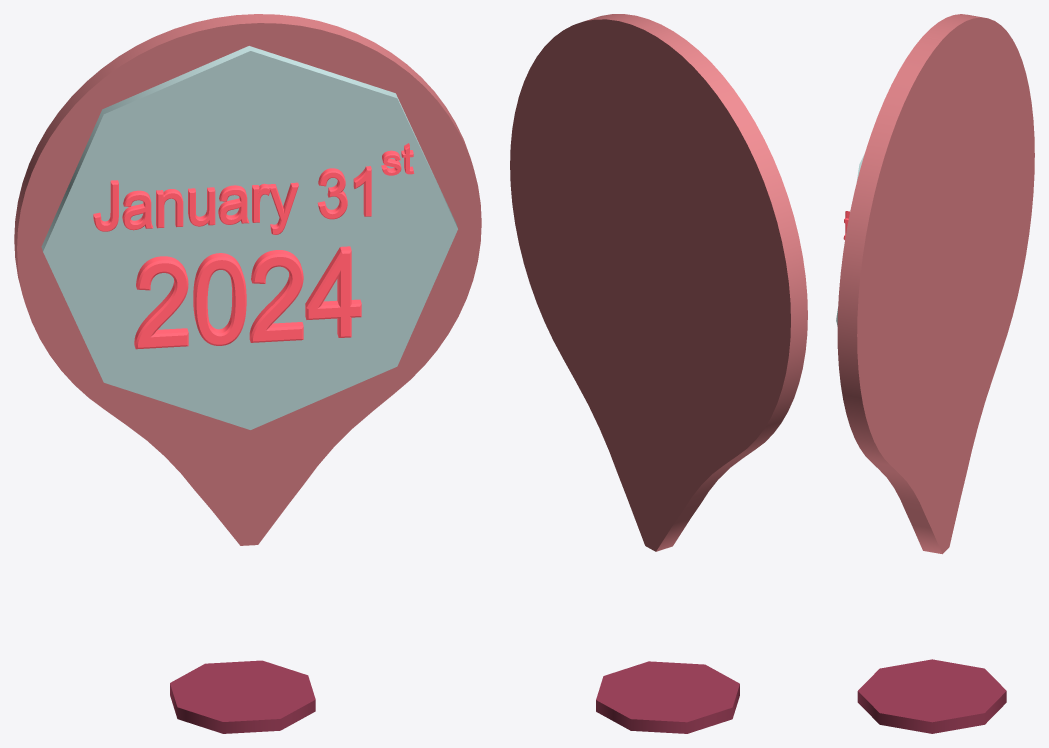
File: open-panels-date-transformed.glb
The picture shows the model from 3 angles, left to right: view 1: azimuth 30°, elevation 25°; view 2: azimuth 150°, elevation 25°; view 3: azimuth 270°, elevation 25°; orthographic projection.
Parts seen in each view (by area): view 1: date, Cylinder002.001; view 2: date, Cylinder002.001; view 3: date, Cylinder002.001.
Boxes of the visible parts, <box> form: date: <box>14,14,481,545</box>; Cylinder002.001: <box>170,660,315,733</box>; date: <box>510,14,807,551</box>; Cylinder002.001: <box>596,661,739,733</box>; date: <box>836,14,1034,554</box>; Cylinder002.001: <box>857,659,1006,733</box>.
Bounding box in the file's own units: 10.22 × 17.41 × 4.67.
